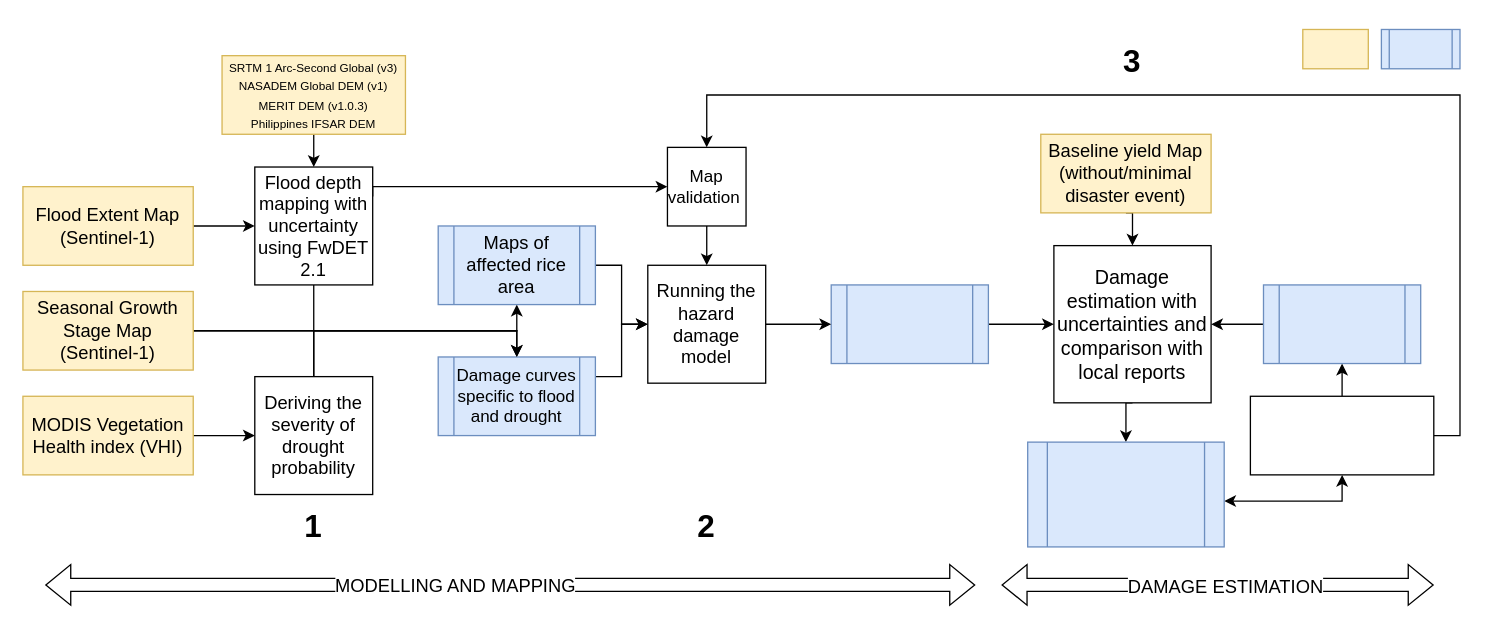
Image size: 1493x629. Some labels were removed from this diagram. Here are the shapes that lost their labels. From the top down, the centre of each, then its label:
At [1334,48]: "EO Input".
At [1420,48]: "EO output".
At [909,324]: "% Yield damage with uncertainty layer".
At [1341,324]: "Data of rice farm gate price, production cost".
At [1341,435]: "Damage reports from national and local governments, other secondary data".
At [1125,494]: "TOTAL DAMAGE COST PER FLOOD AND DROUGHT EVENT".
